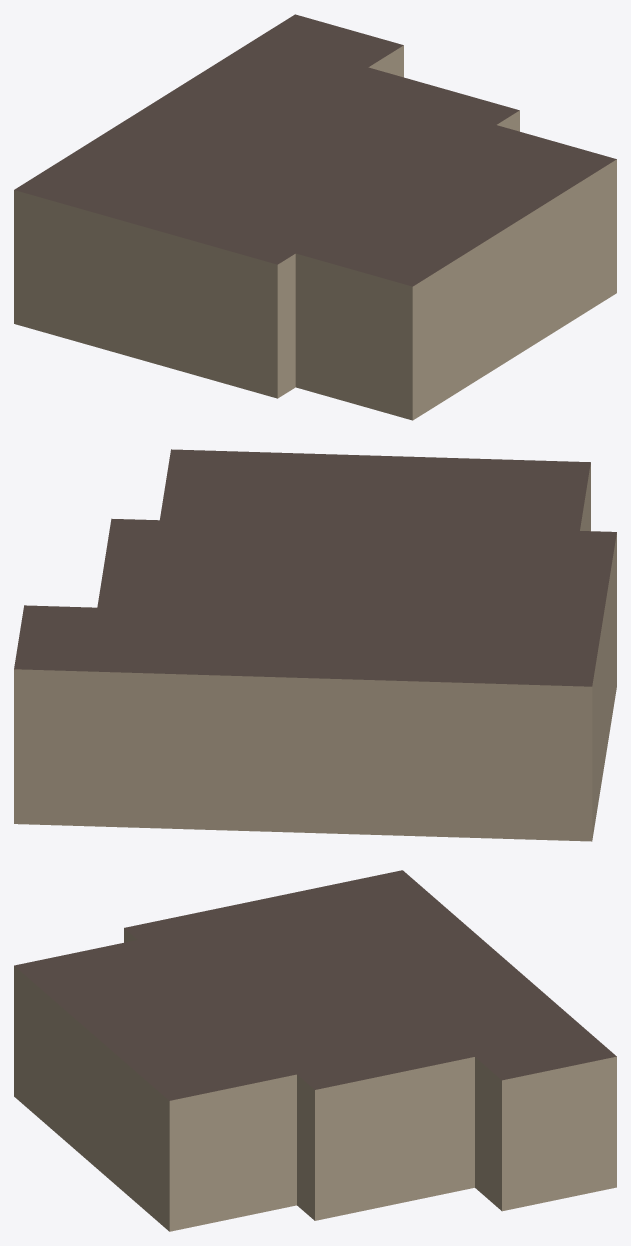
The picture shows the model from 3 angles, top to bottom: view 1: azimuth 30°, elevation 25°; view 2: azimuth 150°, elevation 25°; view 3: azimuth 270°, elevation 25°; orthographic projection. The views are drawn at different scales.
Visible parts, largest first — view 1: HP-w369342442; view 2: HP-w369342442; view 3: HP-w369342442.
Boxes of the visible parts, <box> form: HP-w369342442: <box>14,14,616,420</box>; HP-w369342442: <box>14,449,616,841</box>; HP-w369342442: <box>14,870,616,1231</box>.
Size of the model in its own units: 34.02 by 9 by 37.56.
